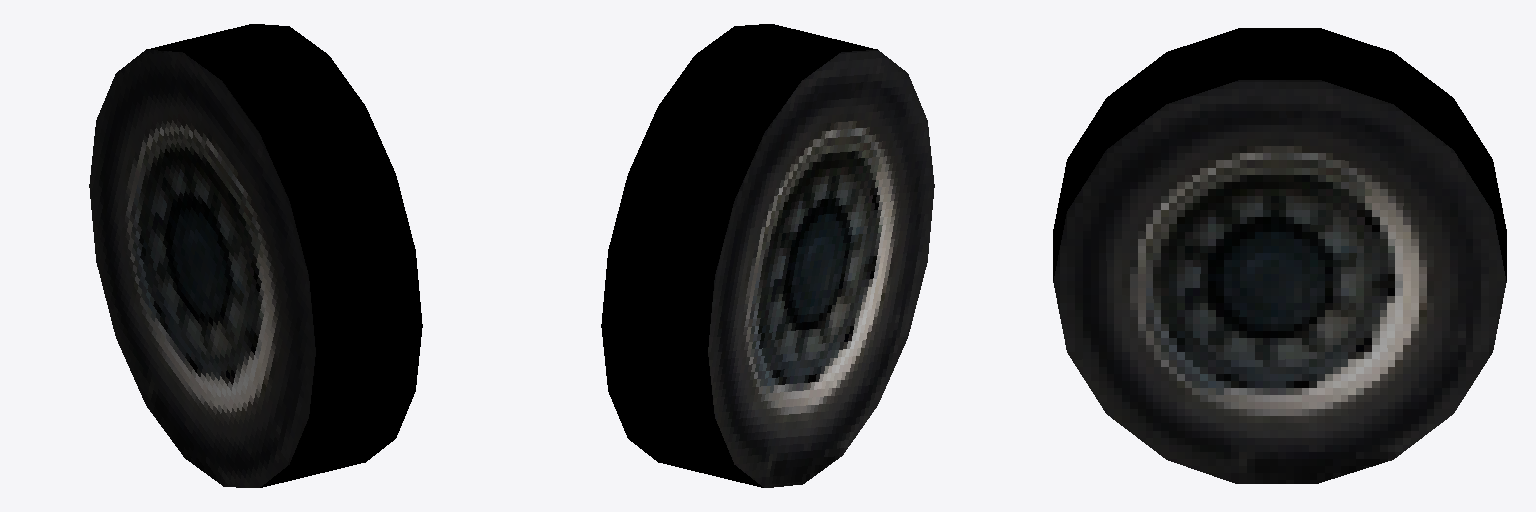
The picture shows the model from 3 angles: view 1: azimuth 30°, elevation 25°; view 2: azimuth 150°, elevation 25°; view 3: azimuth 270°, elevation 25°; orthographic projection.
Parts seen in each view (by area): view 1: Cylinder005; view 2: Cylinder005; view 3: Cylinder005.
Boxes of the visible parts, x1=… form: Cylinder005: x1=89, y1=24, x2=422, y2=487; Cylinder005: x1=601, y1=24, x2=934, y2=487; Cylinder005: x1=1053, y1=28, x2=1506, y2=483.
Bounding box in the file's own units: 0.3178 × 1.15 × 1.17.
1 materials, 1 textured.